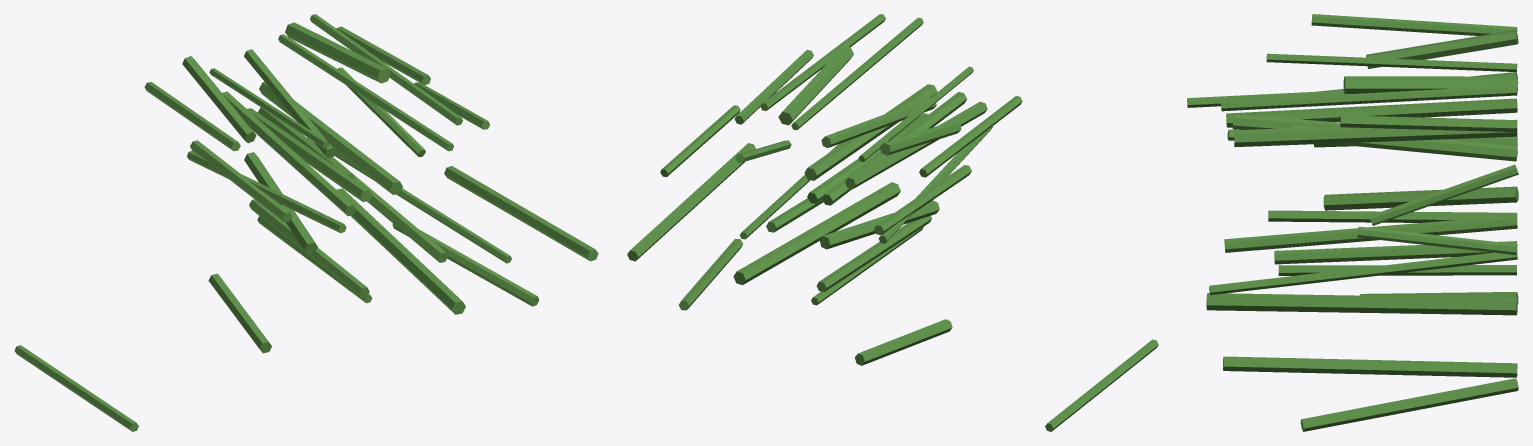
Rendered from grass_tuft.glb.
3 views of the same model, side by side, from view 1: azimuth 30°, elevation 25°; view 2: azimuth 150°, elevation 25°; view 3: azimuth 270°, elevation 25° (orthographic). The views are drawn at different scales.
Visible parts, largest first — view 1: world; view 2: world; view 3: world.
Part boxes in pixels (x1,y1,x2,y2): world: [14, 14, 598, 431]; world: [627, 14, 1158, 431]; world: [1187, 14, 1518, 431].
Size of the model in its own units: 1.11 by 0.6391 by 0.6408.
